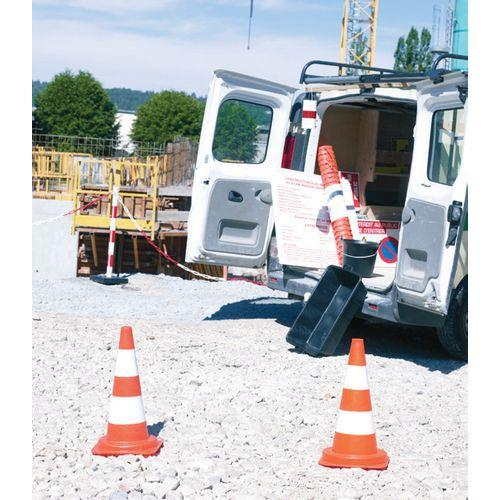traffic_cone: (91, 325, 164, 458), (318, 337, 390, 470)
